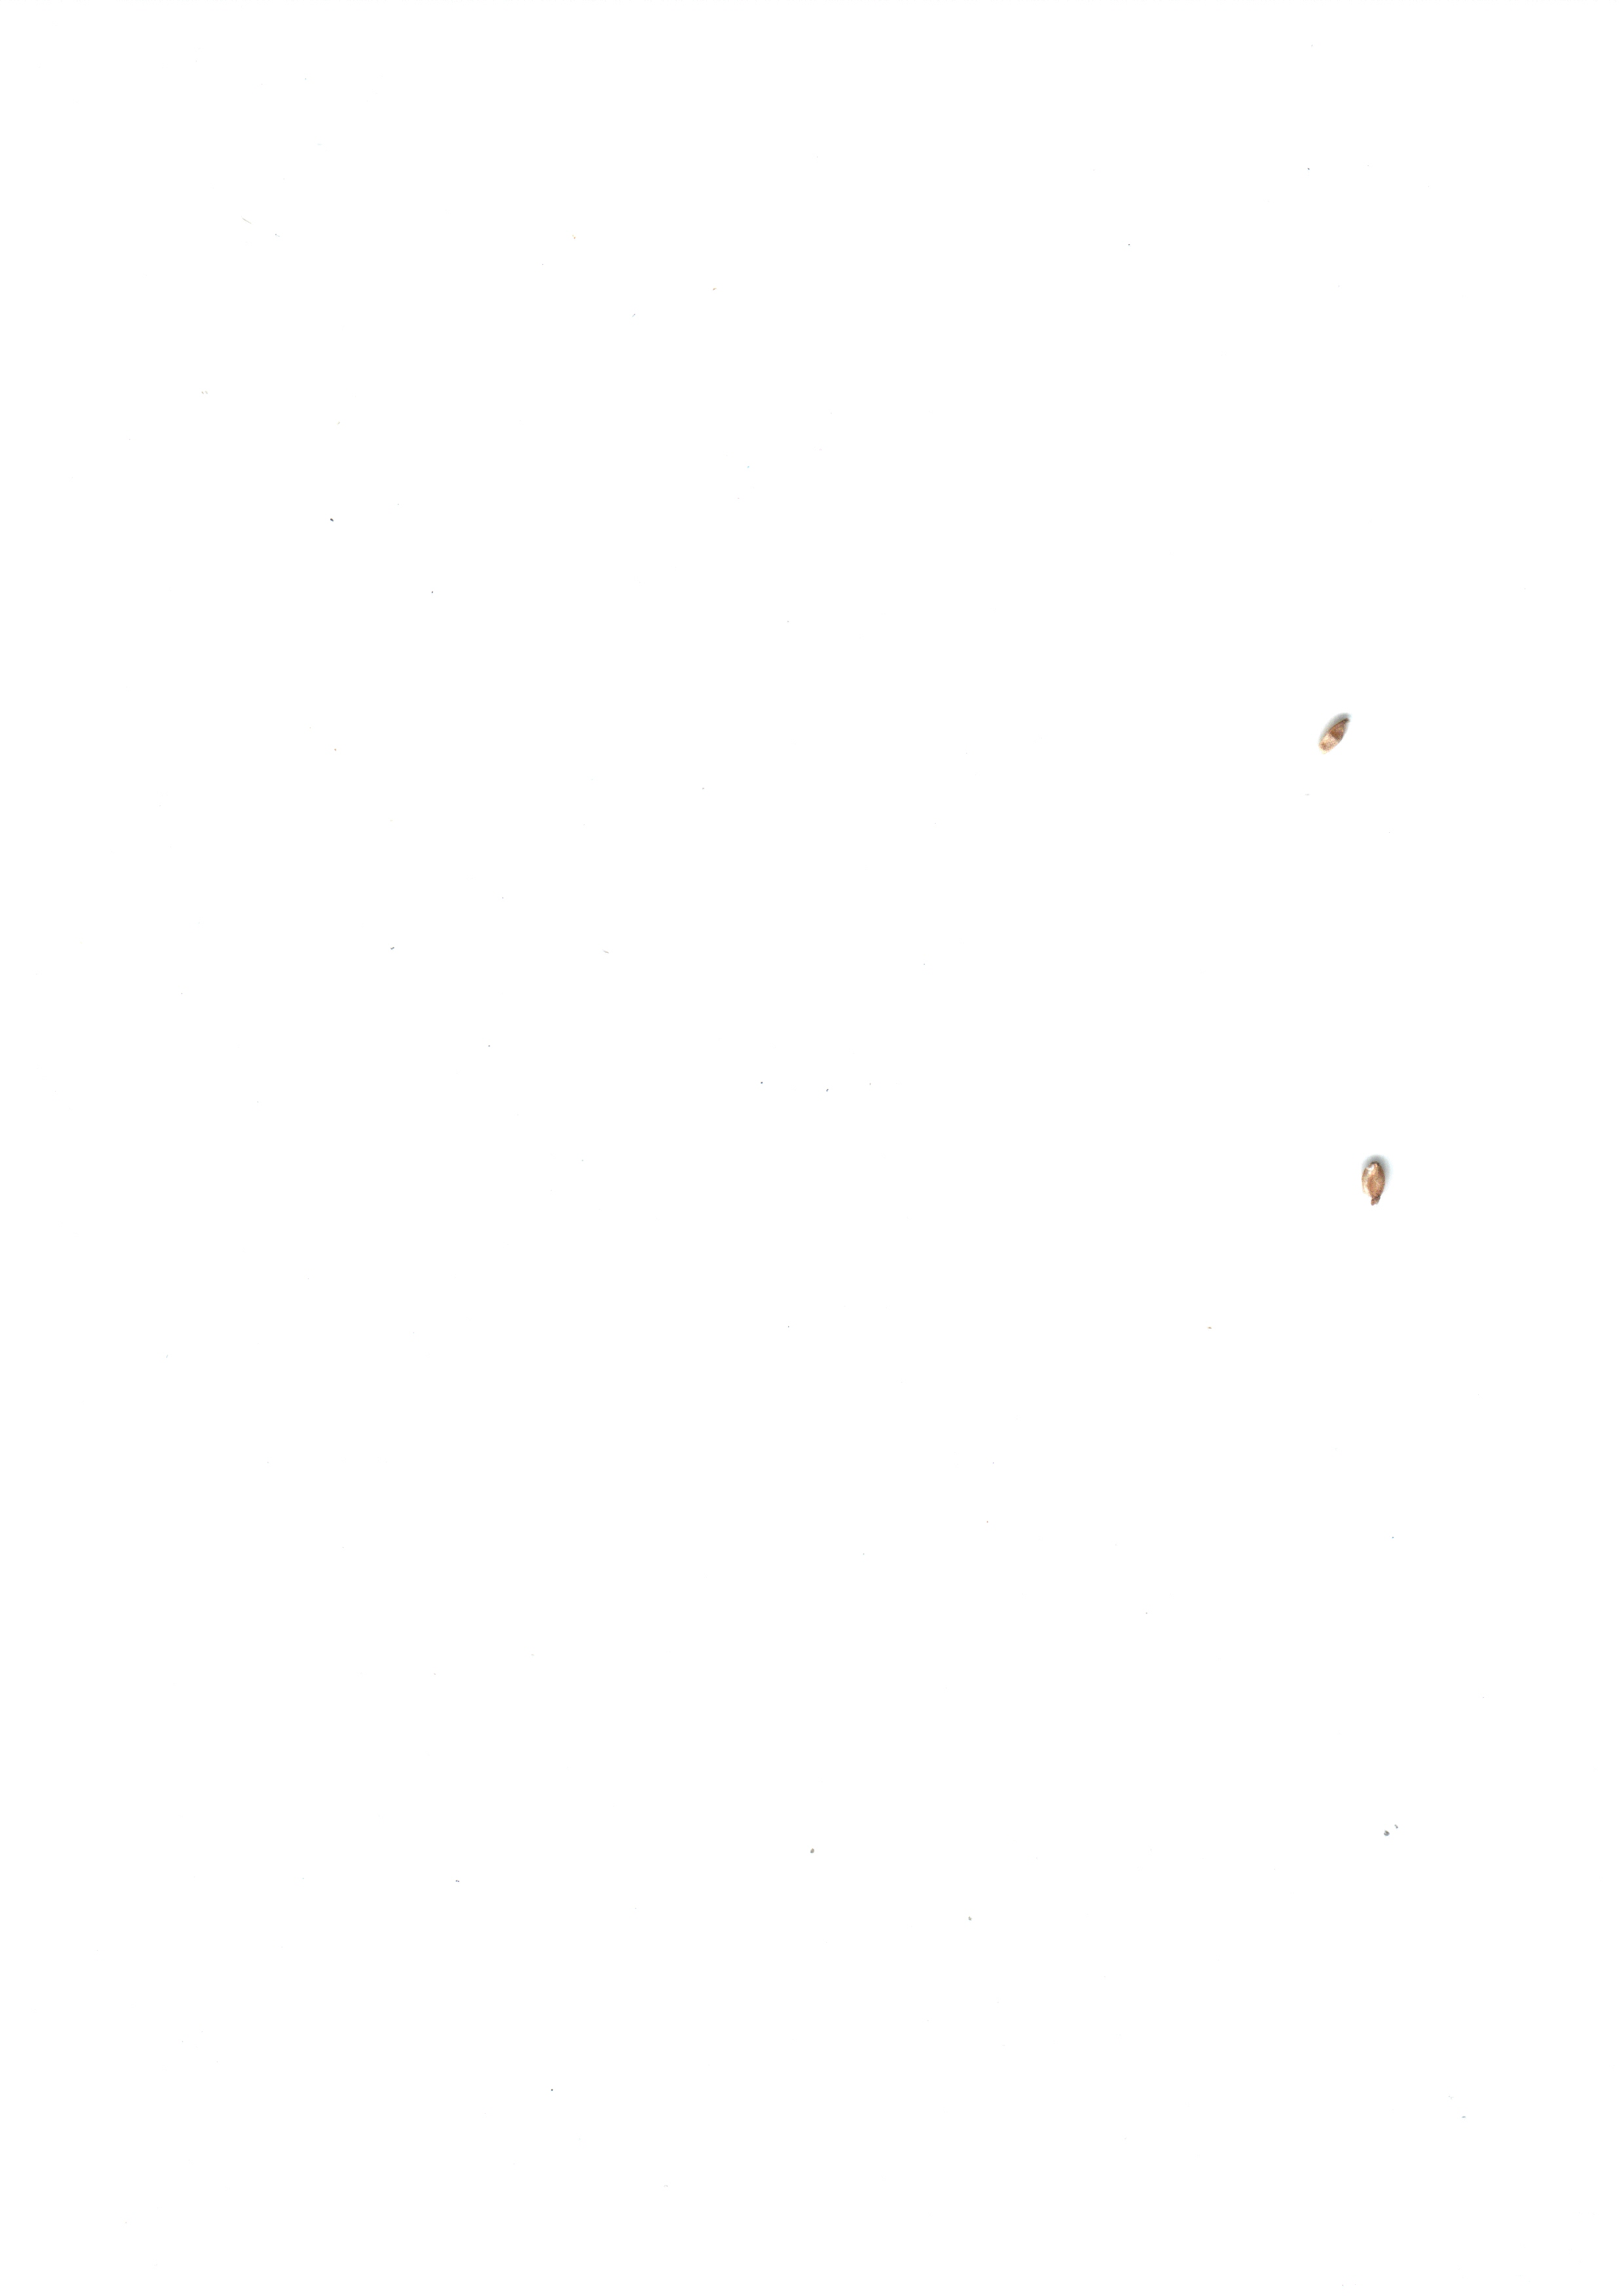grains_2mm: (1340, 1137, 1402, 1222), (1311, 694, 1356, 771)
